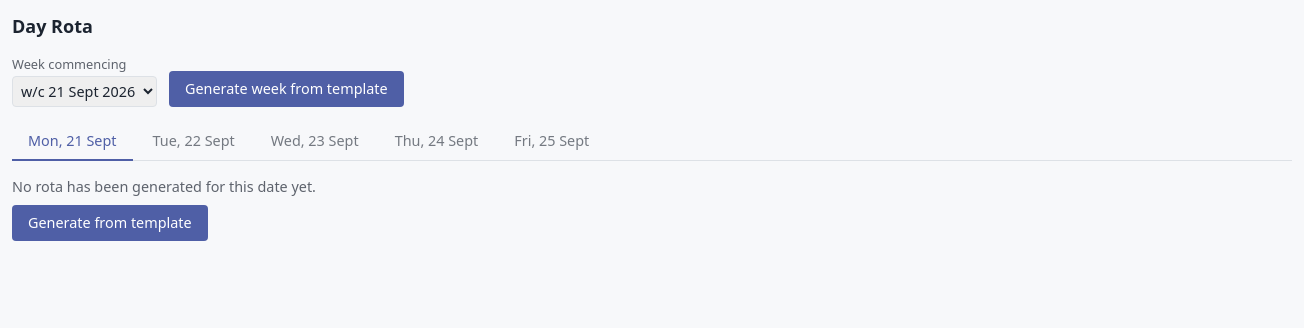
Test: ReceptionDayPage › generating a day assigns the rota and repaints the grid from that response
This screenshot has width=1304, height=328.
Click the button "Generate from template": point(110, 223) x1=12 y1=205 x2=208 y2=241
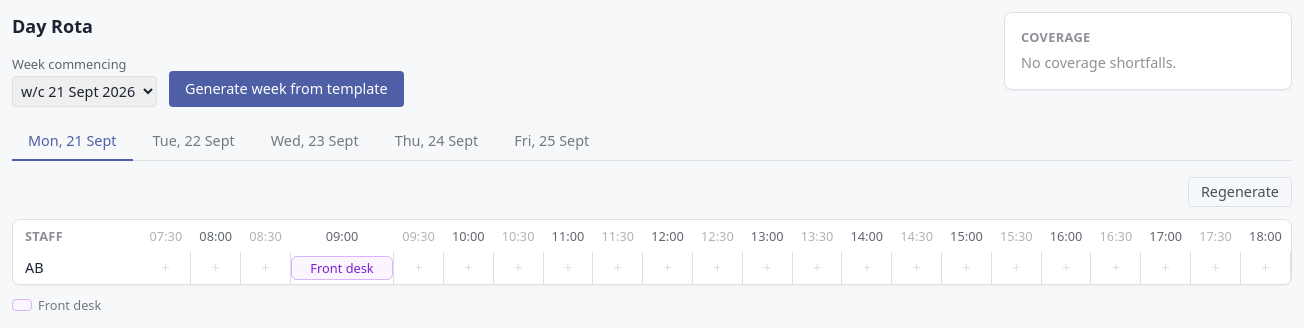
Result: the text "Front desk" is shown at x1=310 y1=259 x2=374 y2=277
